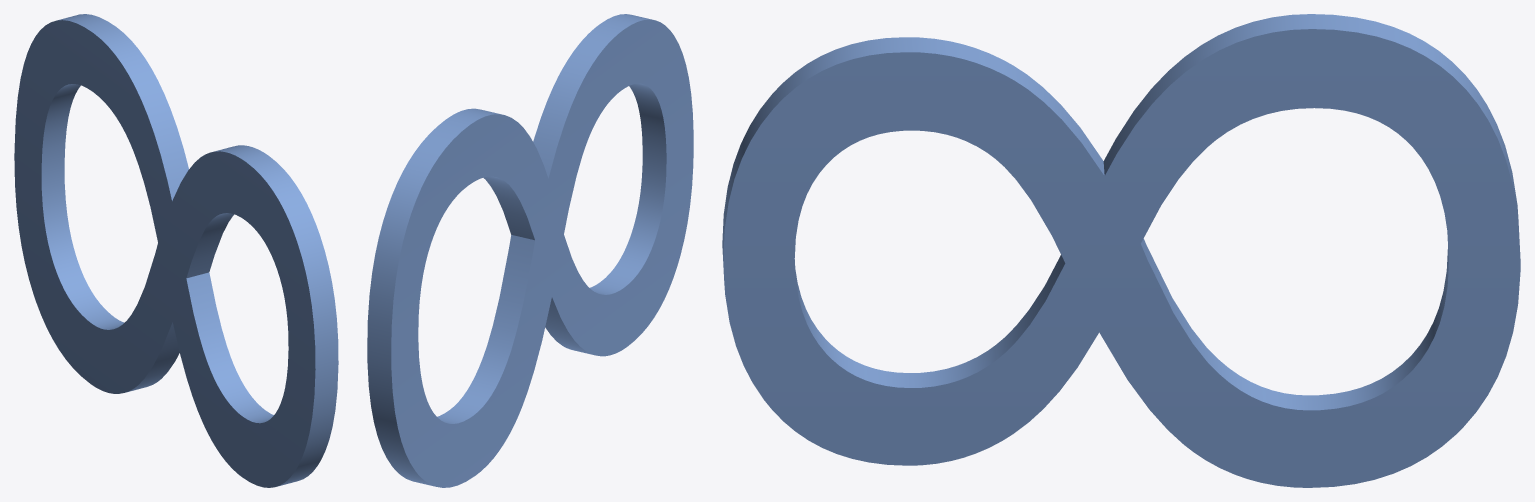
The model's file is New_Number_8.gltf.
The picture shows the model from 3 angles, left to right: view 1: azimuth 30°, elevation 25°; view 2: azimuth 150°, elevation 25°; view 3: azimuth 270°, elevation 25°; orthographic projection. The views are drawn at different scales.
Parts seen in each view (by area): view 1: Part 269; view 2: Part 269; view 3: Part 269.
Boxes of the visible parts, bbox=[...] form: Part 269: bbox=[14, 14, 338, 487]; Part 269: bbox=[367, 14, 693, 487]; Part 269: bbox=[722, 14, 1520, 487].
Size of the model in its own units: 0.000306 by 0.00362 by 0.00566.
